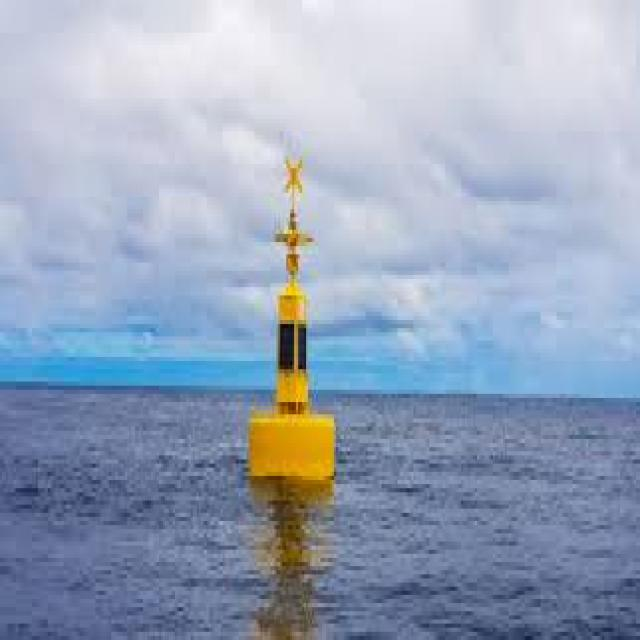2.5 sepcial mark: (236, 124, 342, 523)
